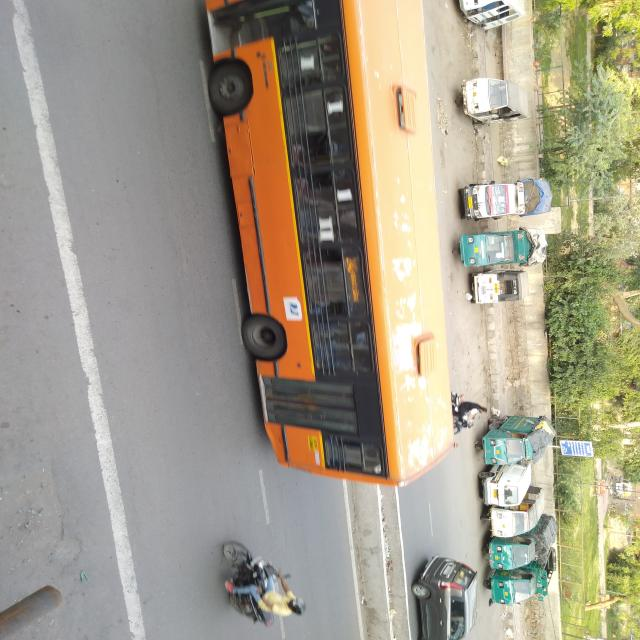Auto: (462, 78, 528, 122)
Bus: (207, 0, 453, 486)
Car: (412, 556, 477, 640), (462, 184, 525, 220)
Two Wheeler: (223, 541, 277, 626)
